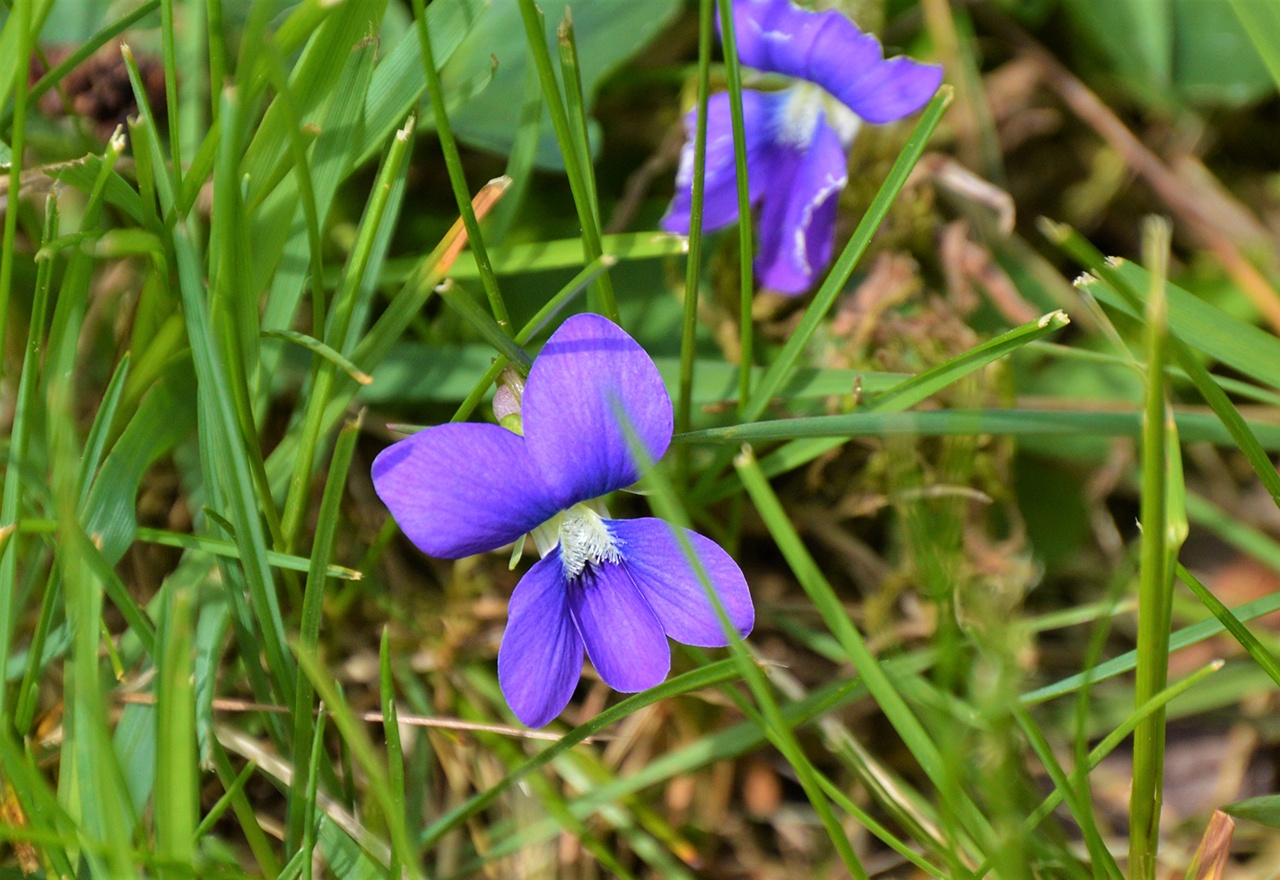violet: (343, 284, 766, 724), (680, 5, 947, 307)
